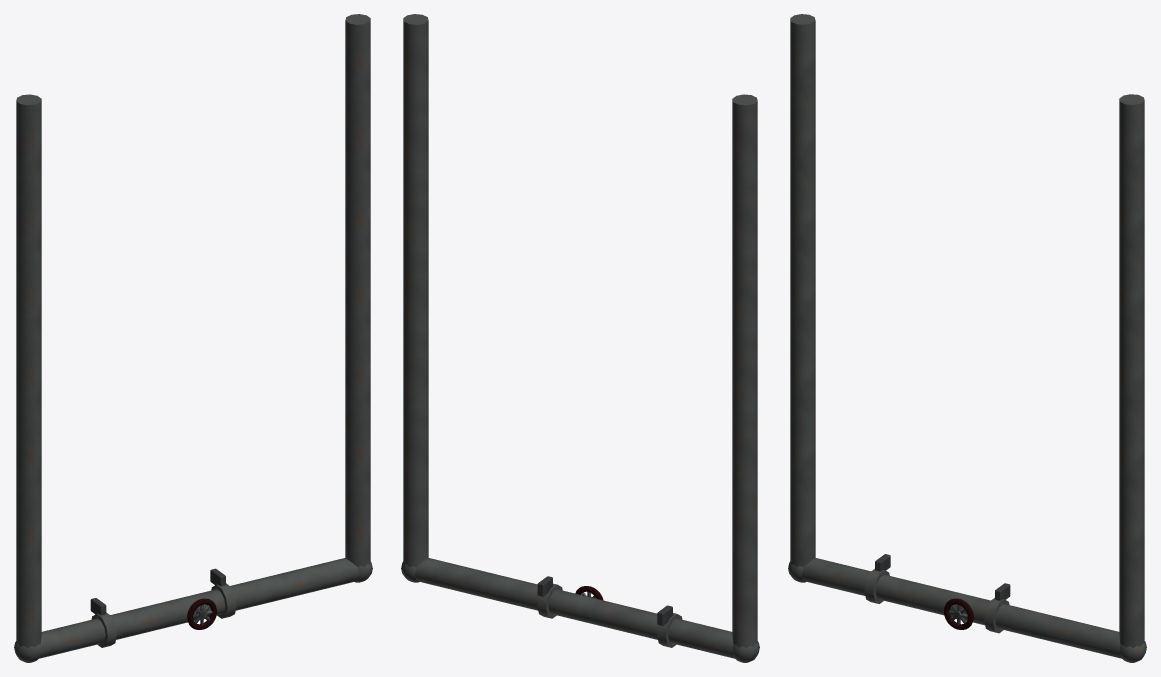
File: pipeRun.glb
The picture shows the model from 3 angles, left to right: view 1: azimuth 30°, elevation 25°; view 2: azimuth 150°, elevation 25°; view 3: azimuth 330°, elevation 25°; orthographic projection.
Parts seen in each view (by area): view 1: pipeRun; view 2: pipeRun; view 3: pipeRun.
Boxes of the visible parts, left/top/right/bottom form: pipeRun: left=14, top=14, right=372, bottom=662; pipeRun: left=401, top=14, right=759, bottom=662; pipeRun: left=788, top=14, right=1146, bottom=662.
Size of the model in its own units: 2.37 by 3.6 by 0.2401.
Materials: 3 (3 with a texture image).
